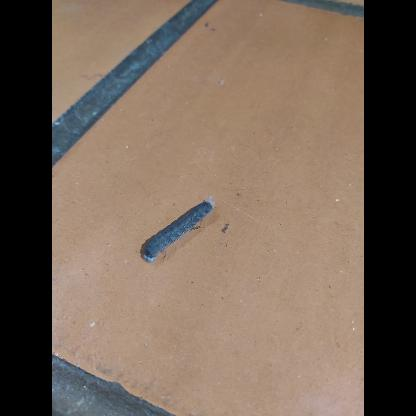Fall Armyworm Larvae: (143, 200, 215, 260)
